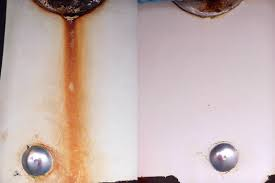rust: (62, 20, 88, 177)
